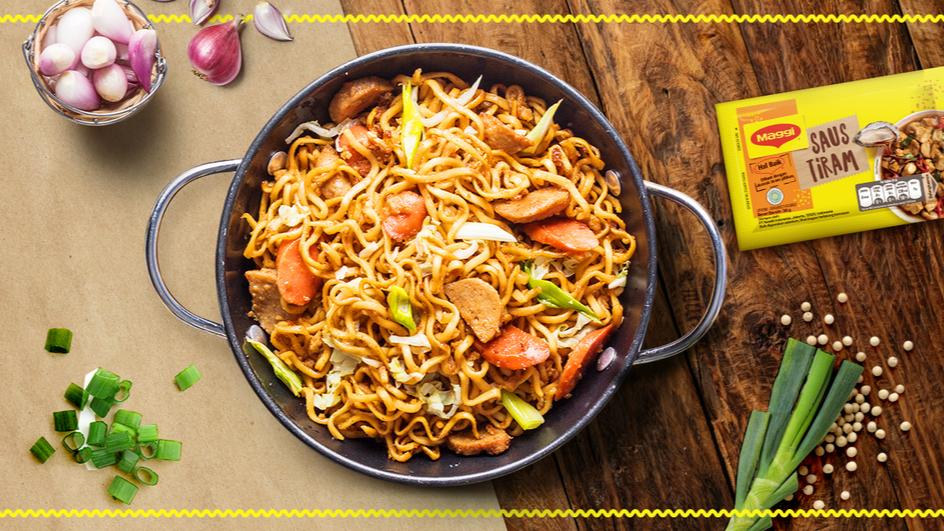Mie: (174, 103, 644, 499)
